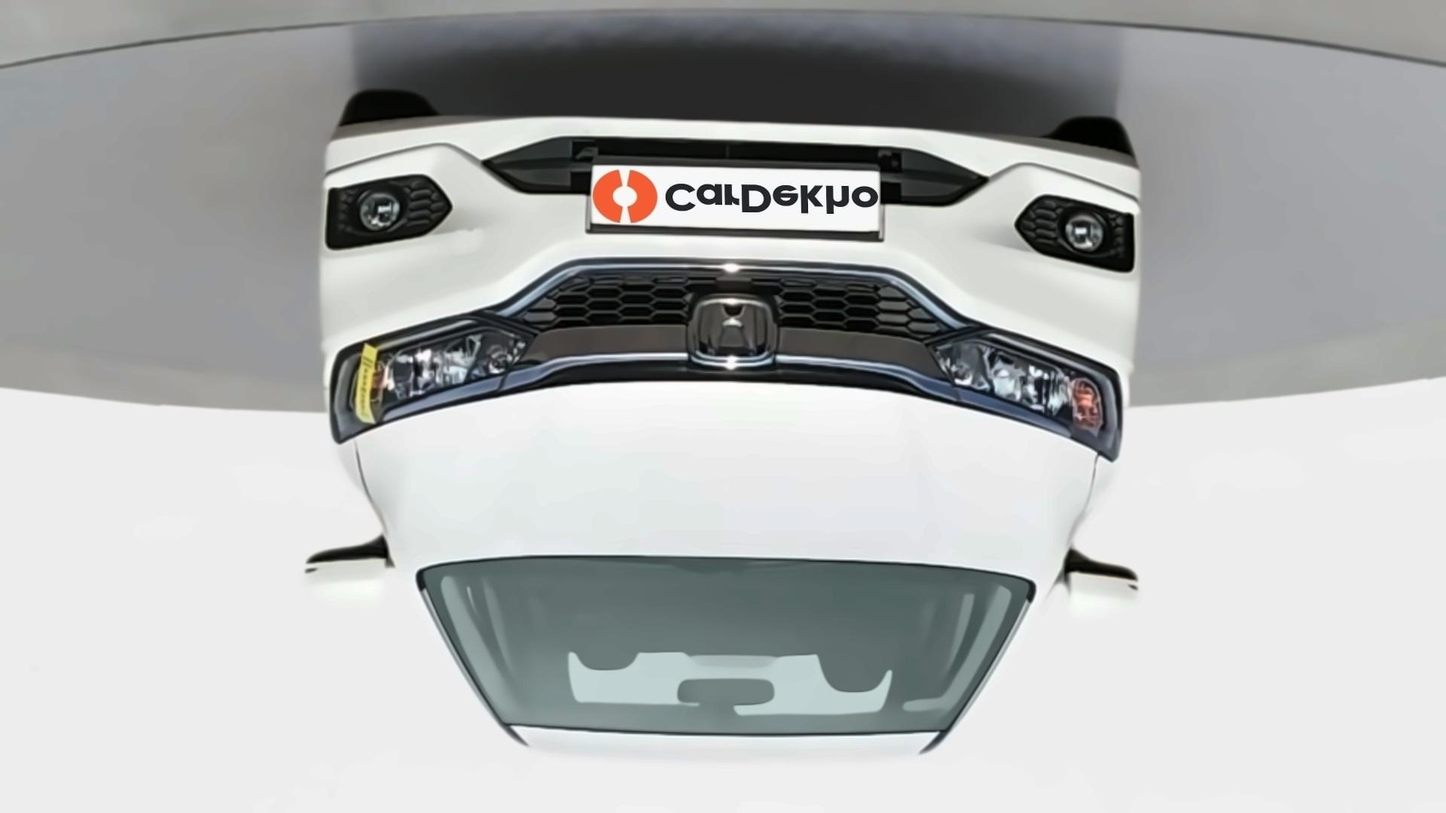Car hood: (353, 374, 1100, 578)
Front bumper: (306, 103, 1154, 353)
Headlight - -L-: (319, 306, 546, 446)
Headlight - -R-: (923, 319, 1136, 470)
Side mirror - -L-: (294, 526, 403, 591)
Side mirror - -R-: (1056, 542, 1144, 612)
